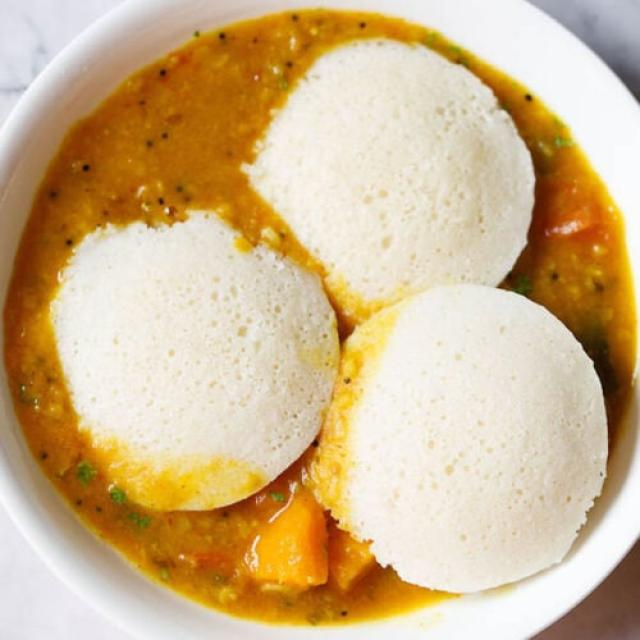Wet Waste: (44, 208, 342, 514), (317, 282, 607, 594), (246, 37, 535, 312)
